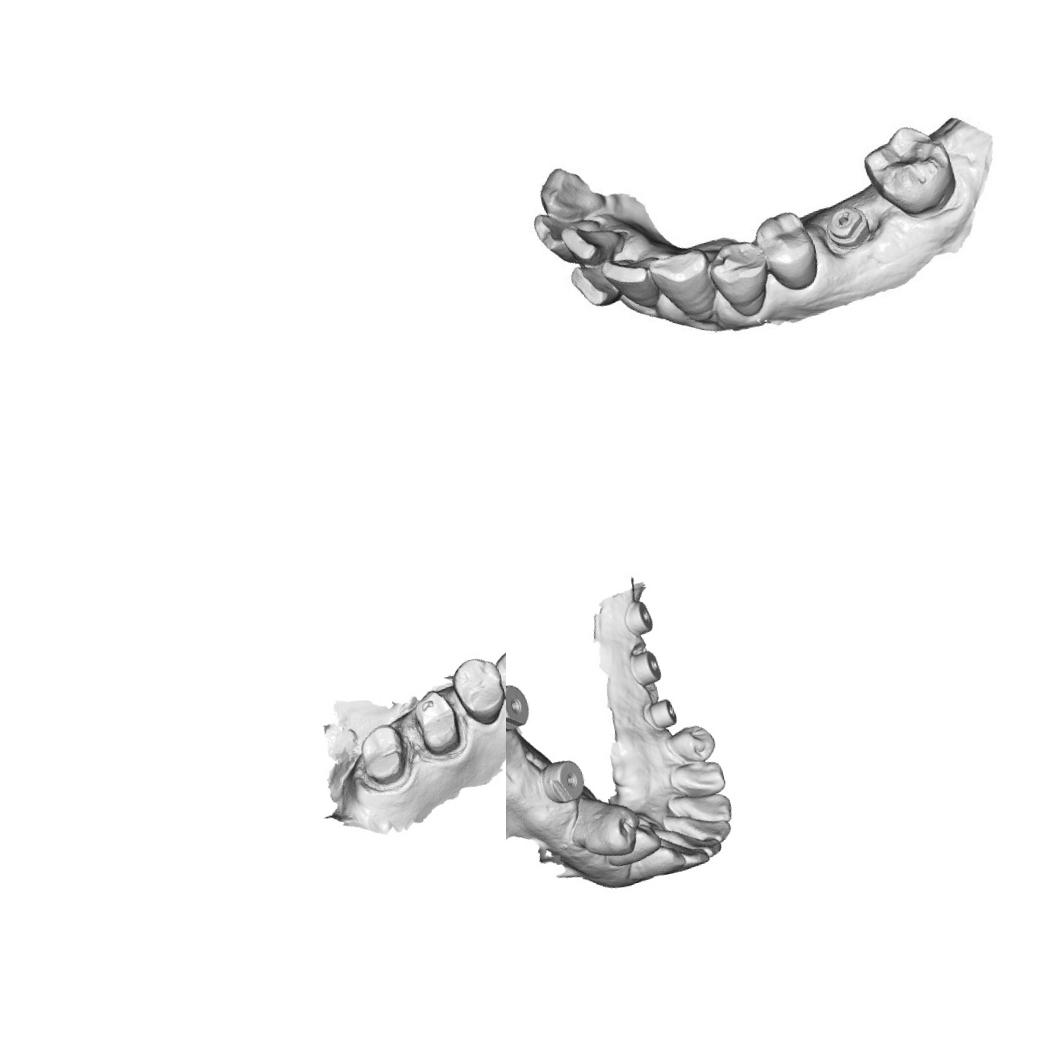canine: (645, 241, 722, 333), (532, 156, 609, 226), (664, 754, 730, 805), (623, 838, 688, 888)
crown: (348, 717, 422, 796), (404, 683, 474, 766)
implant: (536, 753, 590, 809), (506, 677, 538, 737), (640, 690, 681, 734), (620, 594, 658, 640), (626, 646, 664, 690)
implant_minus: (825, 200, 877, 256)
incisor: (606, 252, 663, 323), (560, 215, 630, 269), (562, 257, 622, 316), (670, 785, 736, 833), (676, 809, 736, 852), (529, 209, 574, 266), (678, 830, 728, 865), (668, 844, 714, 880)
molar: (855, 116, 965, 226)
premolar: (699, 238, 778, 326), (754, 208, 824, 297), (570, 796, 649, 866), (445, 651, 506, 733), (666, 720, 720, 768), (624, 820, 666, 861), (492, 639, 506, 722)
